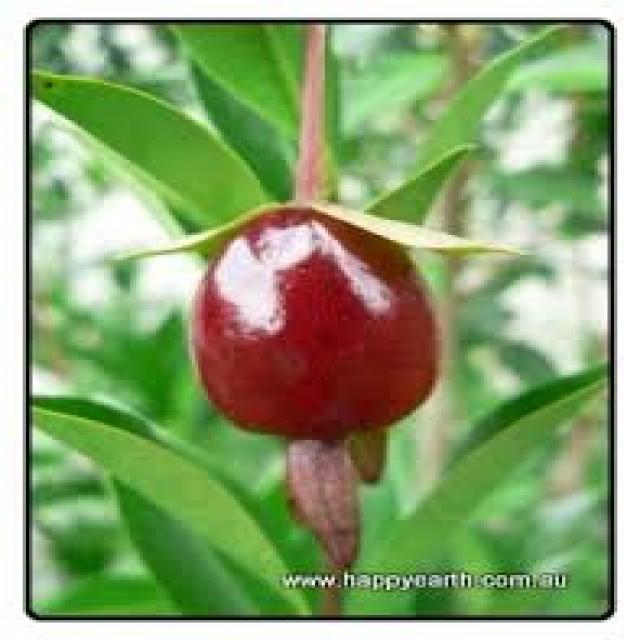organic waste: (186, 200, 410, 572), (29, 73, 263, 235), (426, 358, 601, 540)
